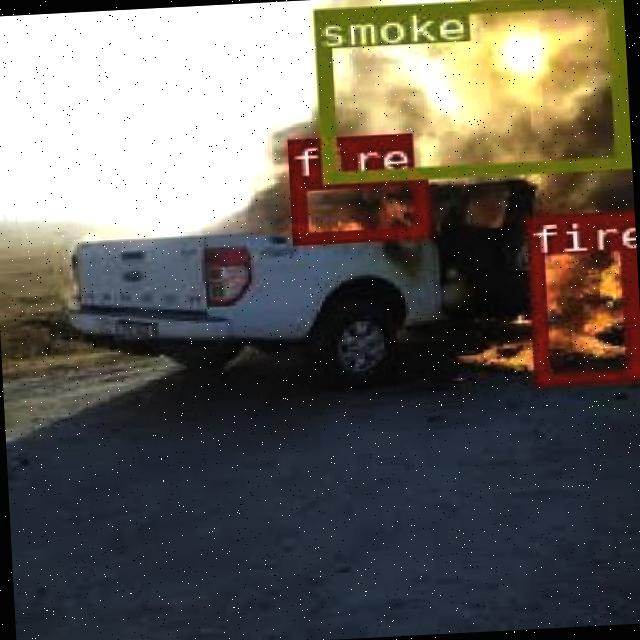fire: (523, 209, 637, 382), (288, 172, 426, 242)
smoke: (312, 0, 626, 181)
